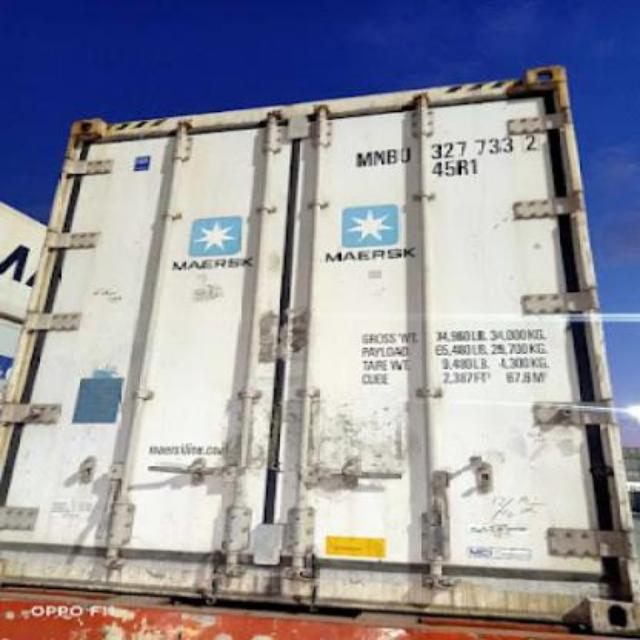2: (522, 134, 540, 152), (442, 140, 456, 160)
3: (430, 141, 442, 161), (502, 136, 514, 156), (488, 138, 500, 156)
7: (473, 137, 487, 157), (454, 140, 468, 158)
B: (386, 145, 398, 169)
M: (355, 150, 373, 168)
N: (372, 148, 386, 168)
U: (398, 146, 412, 164)
